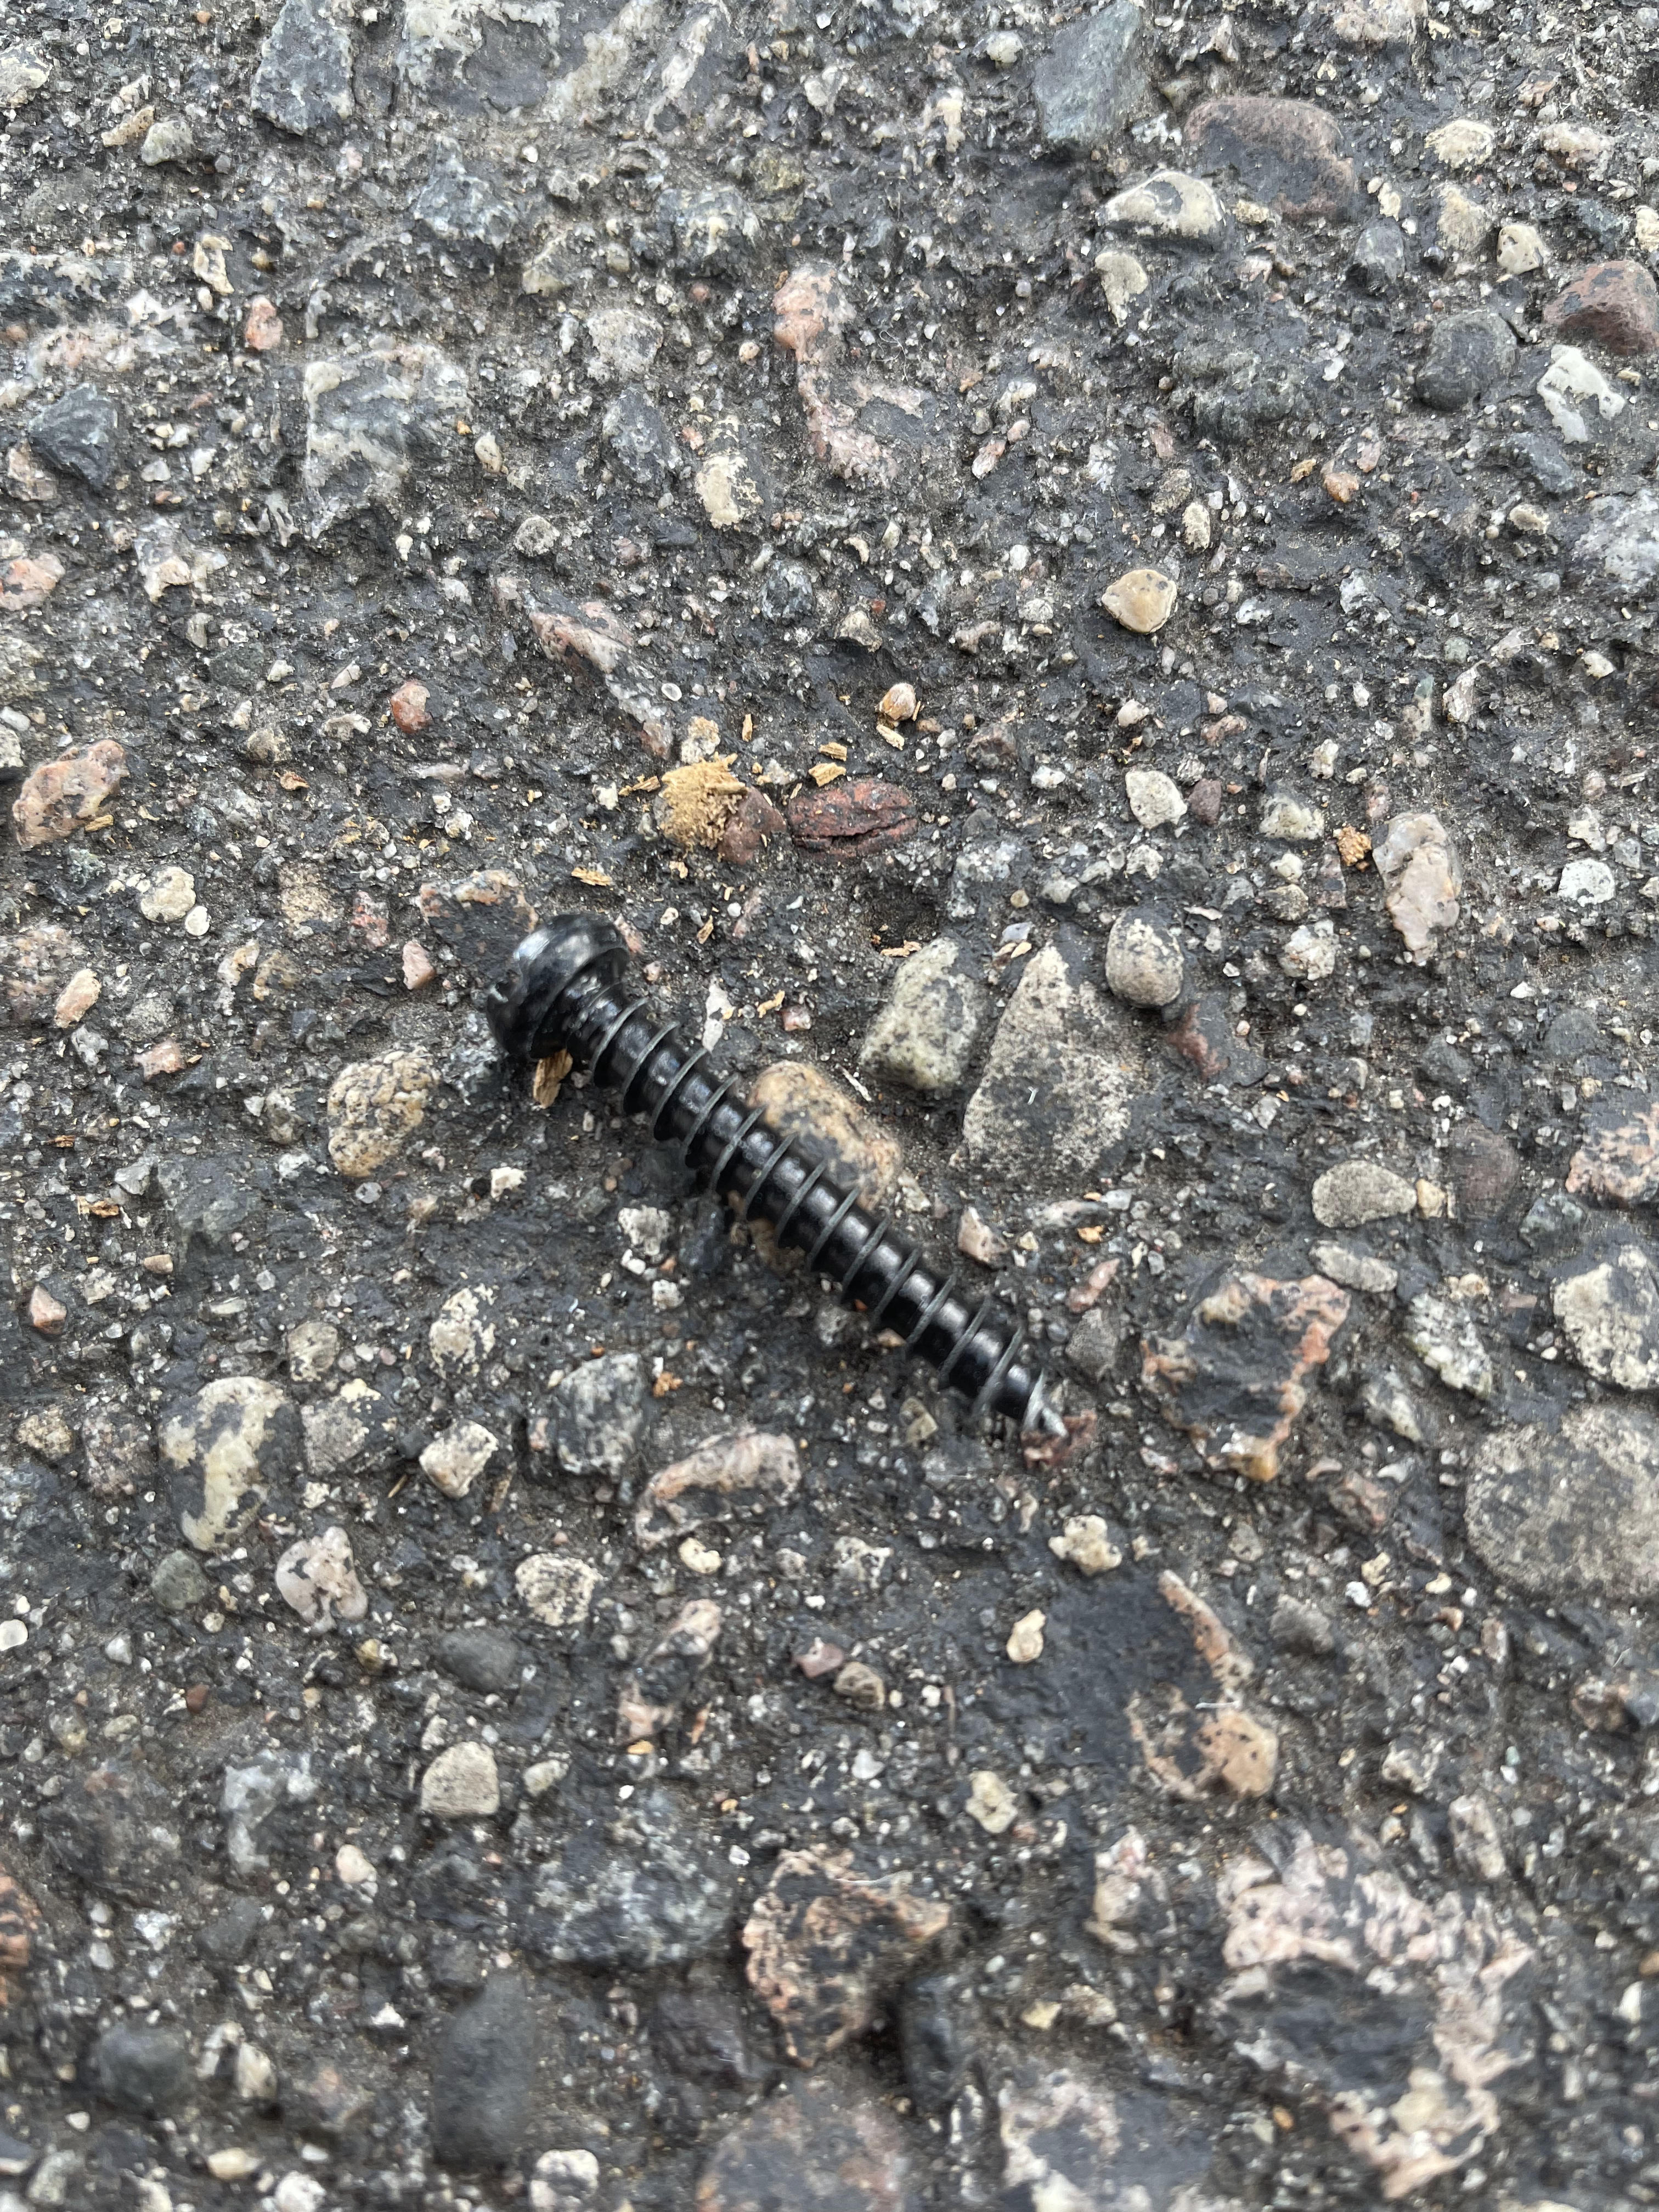screw: (484, 913, 1072, 1442)
